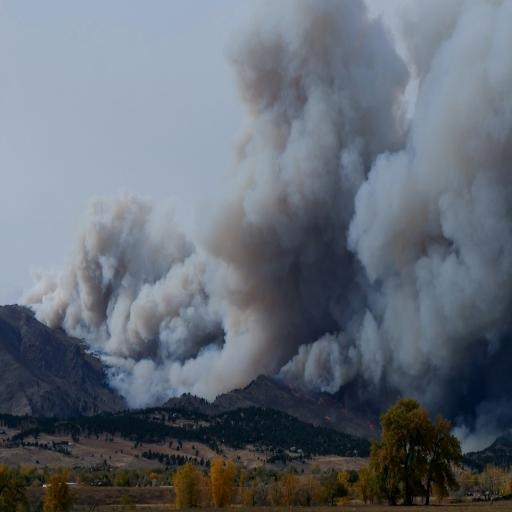smoke: (30, 72, 512, 395)
